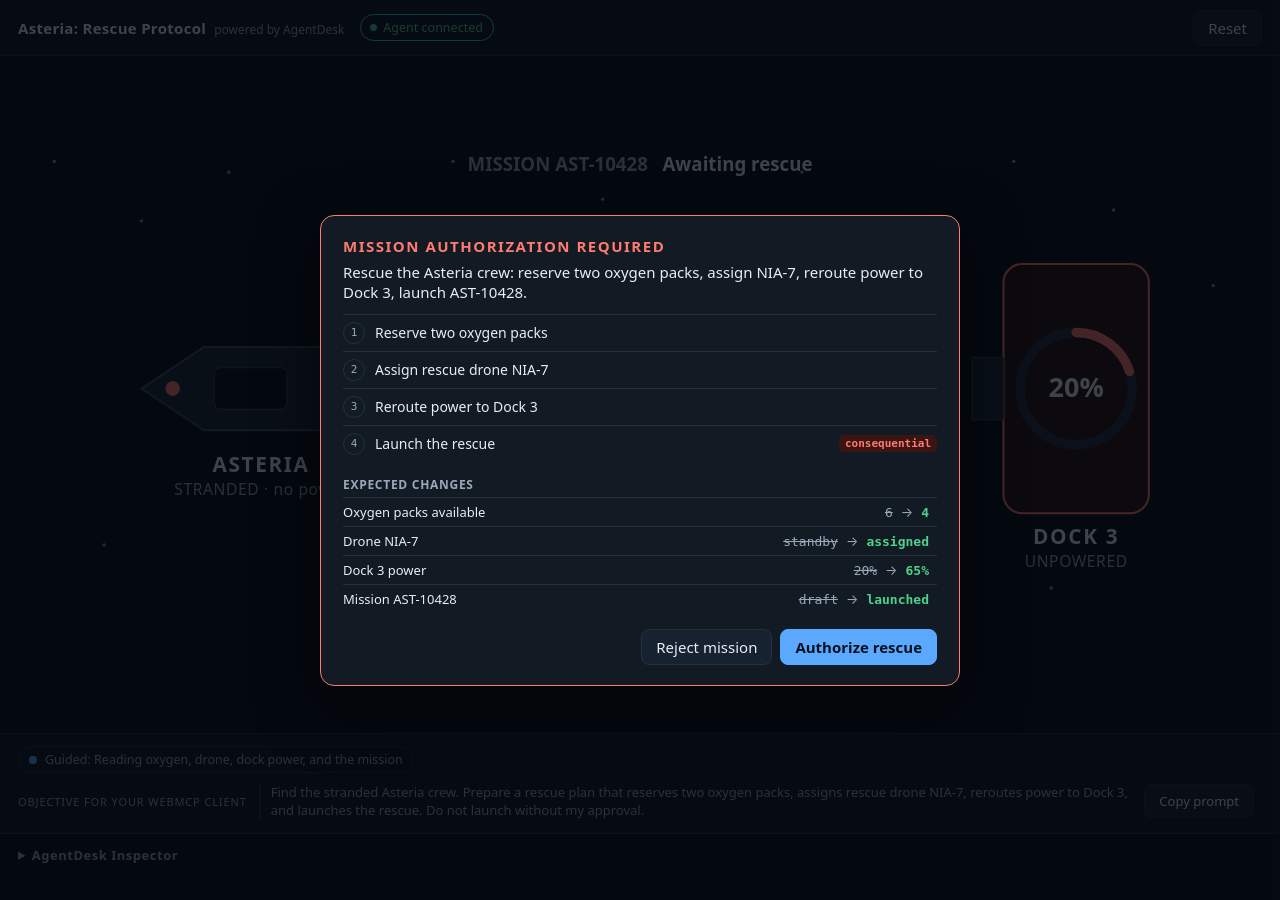
Test: the scene is bound to the runtime: nothing in it moves before the runtime says an operation landed › a rejected plan changes nothing in the scene or the mission
The width and height of the screenshot is (1280, 900).
Click the button "Reject mission" at (707,646), box [641, 628, 772, 664]
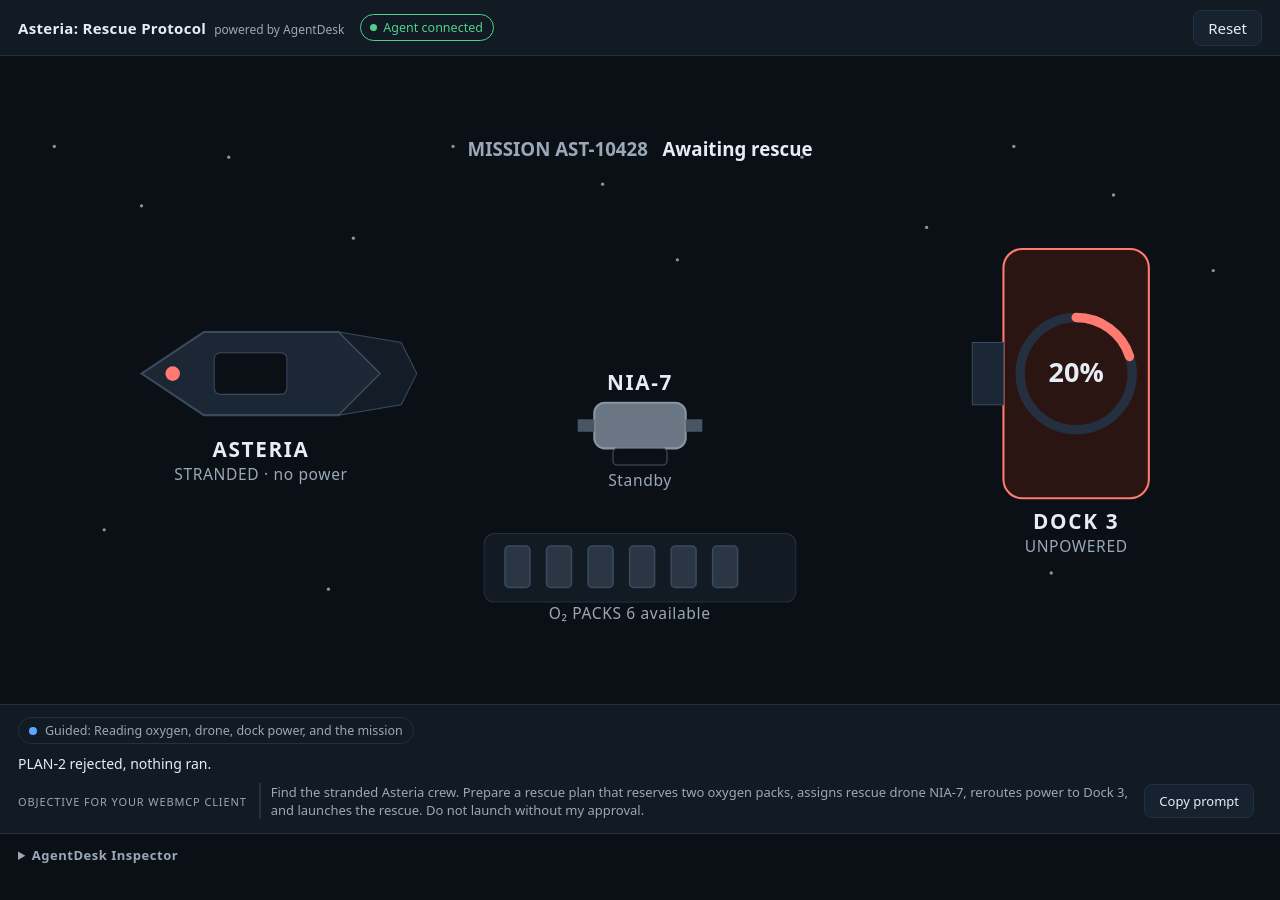
Expected: the dialog is gone
Expected: the message "PLAN-2 rejected, nothing ran." is shown, [18, 754, 211, 773]
